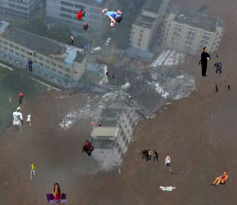Human: (15, 157, 37, 179), (46, 183, 68, 205), (13, 107, 32, 132), (198, 47, 211, 77), (6, 58, 33, 72), (102, 8, 123, 26), (139, 149, 162, 163), (210, 170, 228, 187), (81, 140, 94, 156), (9, 92, 24, 104), (214, 83, 230, 93), (80, 22, 89, 39), (164, 153, 172, 171), (77, 9, 86, 21), (214, 62, 222, 74), (159, 186, 178, 191), (28, 49, 40, 56), (98, 119, 106, 129), (106, 72, 117, 79), (209, 53, 218, 61), (69, 35, 74, 46), (91, 121, 95, 128), (170, 172, 177, 175), (187, 169, 191, 172), (125, 41, 127, 43), (130, 97, 132, 99), (20, 0, 22, 2)
